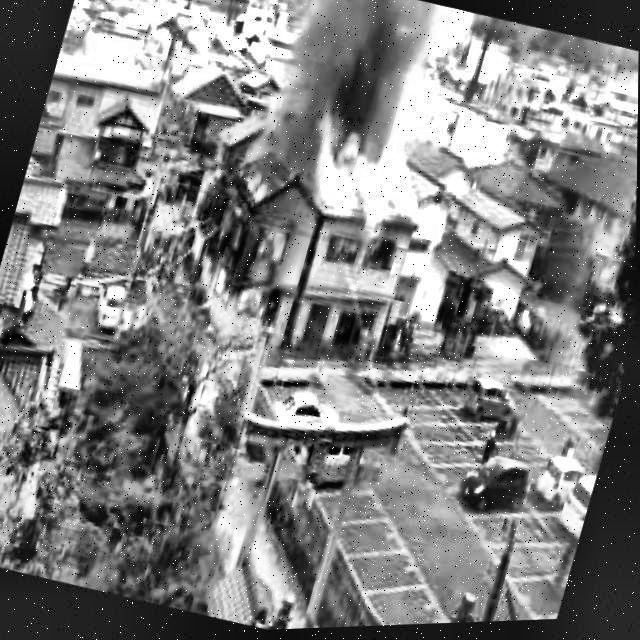Fire: (198, 168, 303, 328), (315, 232, 373, 278)
Smoke: (261, 0, 459, 194)
